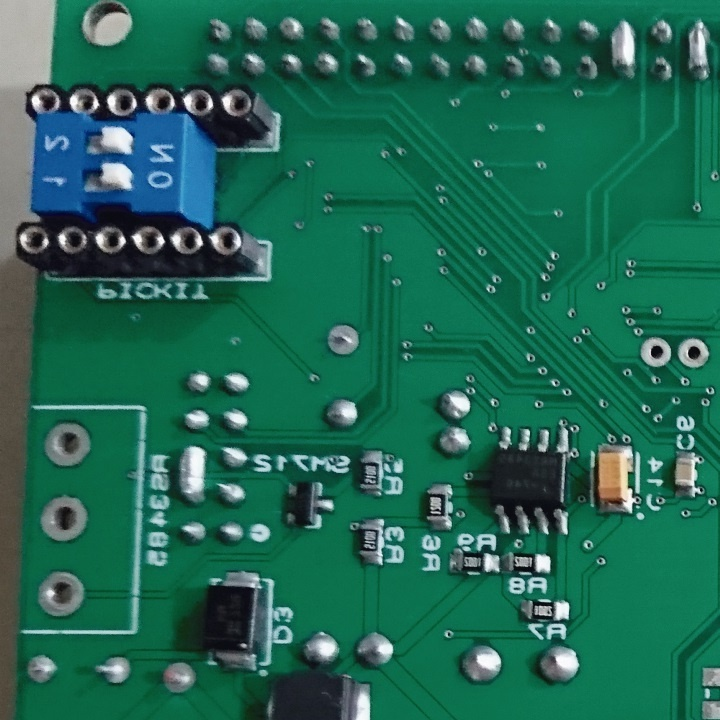F: (41, 418, 97, 471), (34, 568, 87, 621), (38, 491, 92, 543), (90, 651, 138, 688), (157, 656, 196, 695), (325, 320, 363, 359), (676, 335, 711, 372), (637, 335, 673, 369), (23, 652, 57, 686)
P: (174, 441, 209, 511), (607, 15, 637, 89), (683, 14, 714, 85)
